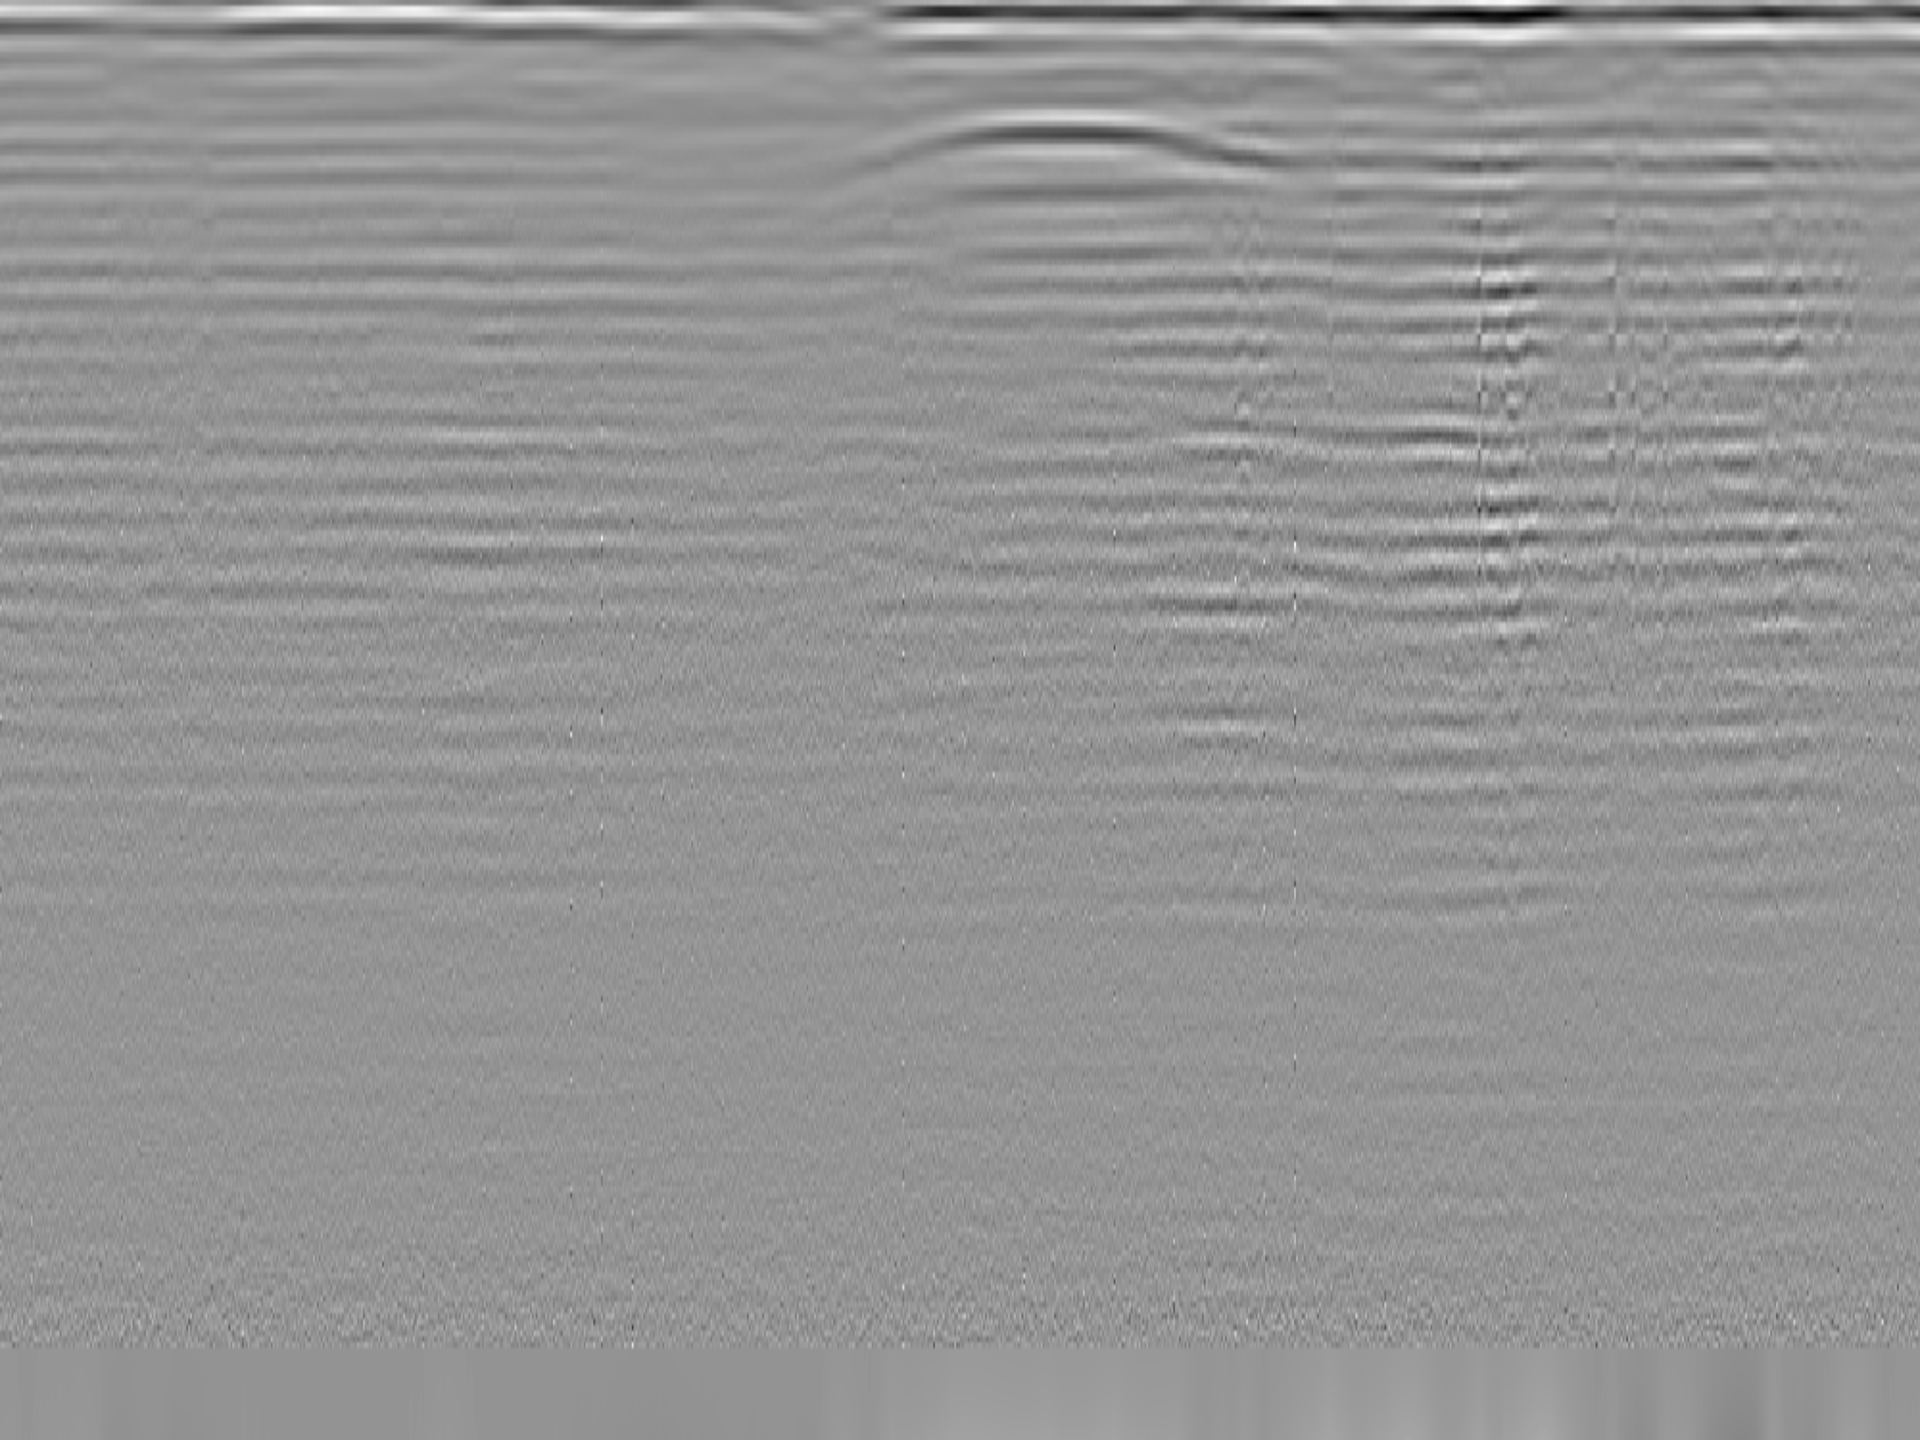Tunnel: (821, 112, 1311, 175)
